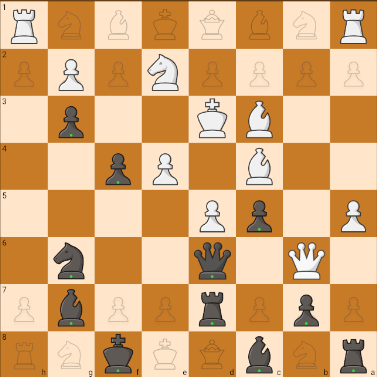bb: (49, 286, 94, 328), (241, 335, 277, 375)
bk: (97, 332, 140, 375)
bn: (51, 242, 91, 281)
bp: (51, 100, 92, 141), (100, 146, 137, 188), (242, 195, 278, 234), (287, 290, 323, 327)
bq: (189, 239, 233, 280)
br: (194, 290, 234, 328), (337, 335, 372, 375)
wb: (241, 96, 277, 141), (242, 146, 278, 188)
wk: (191, 98, 235, 144)
wn: (145, 51, 184, 93)
wp: (50, 56, 92, 94), (146, 150, 186, 189), (194, 197, 231, 234), (336, 199, 373, 235)
wq: (283, 238, 330, 280)
wr: (3, 4, 44, 45), (335, 3, 374, 45)
